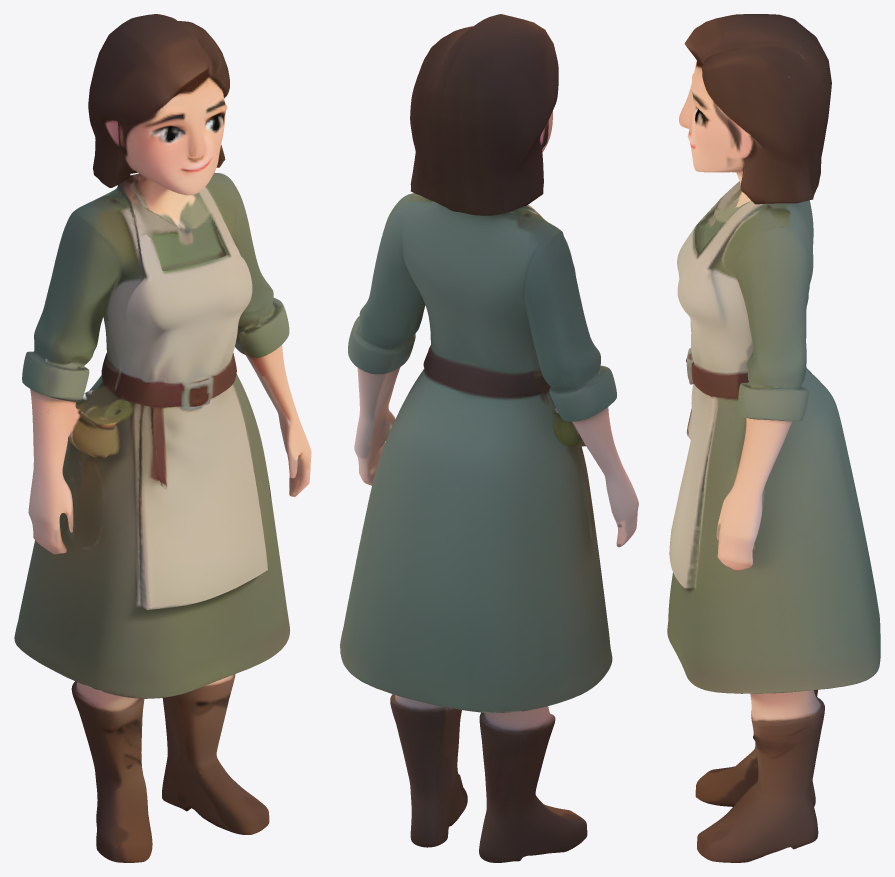
File: base_basic_shaded.fbx
3 views of the same model, side by side, from view 1: azimuth 30°, elevation 25°; view 2: azimuth 150°, elevation 25°; view 3: azimuth 270°, elevation 25° (orthographic).
Parts seen in each view (by area): view 1: model; view 2: model; view 3: model.
Boxes of the visible parts, left/top/right/bottom form: model: left=14, top=14, right=311, bottom=862; model: left=340, top=14, right=638, bottom=862; model: left=667, top=14, right=880, bottom=862.
Bounding box in the file's own units: 68.11 × 190 × 45.7.
